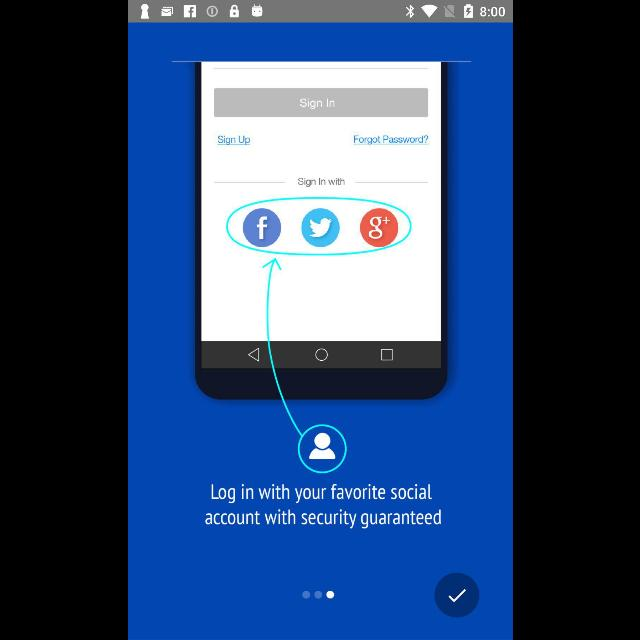button: (434, 572, 478, 618)
image: (195, 62, 447, 474)
pageindicator: (302, 591, 334, 599)
text: (204, 483, 440, 529)
uppertaskbar: (128, 1, 512, 23)
